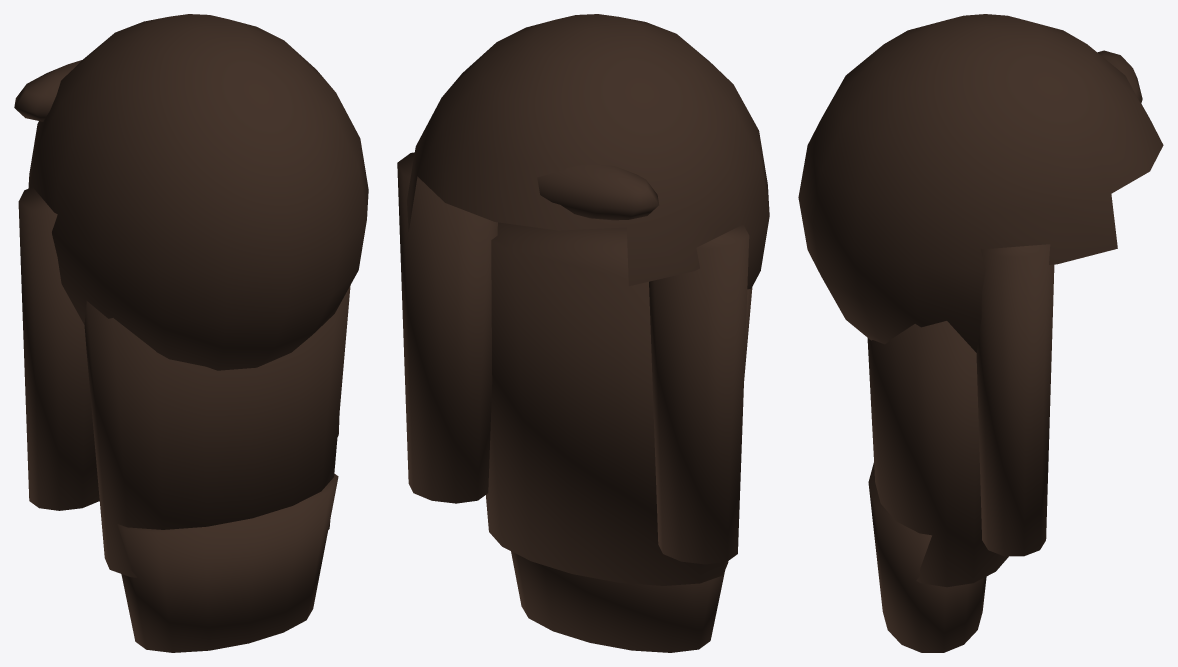
Rendered from hair_1.glb.
3 renders of one model, left to right at view 1: azimuth 30°, elevation 25°; view 2: azimuth 150°, elevation 25°; view 3: azimuth 270°, elevation 25°, orthographic. The views are drawn at different scales.
Visible parts, largest first — view 1: Head; view 2: Head; view 3: Head.
Part boxes in pixels (x1,y1,x2,y2): Head: [14, 14, 368, 652]; Head: [397, 14, 769, 652]; Head: [798, 14, 1163, 652].
Bounding box in the file's own units: 0.2605 × 0.451 × 0.2557.
